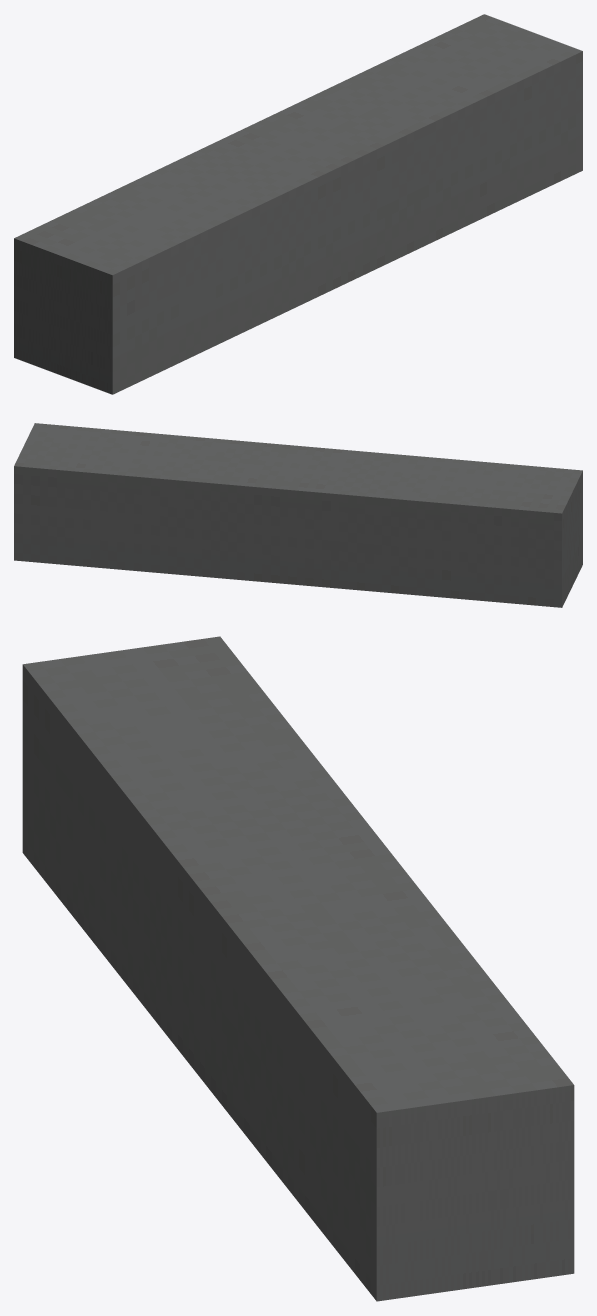
File: prop_chalk-1.glb
3 views of the same model, one above another, from view 1: azimuth 30°, elevation 25°; view 2: azimuth 150°, elevation 25°; view 3: azimuth 270°, elevation 25° (orthographic). The views are drawn at different scales.
Parts seen in each view (by area): view 1: prop_chalk-1; view 2: prop_chalk-1; view 3: prop_chalk-1.
Boxes of the visible parts, x1,y1,x2,y2 form: prop_chalk-1: [14, 14, 582, 394]; prop_chalk-1: [14, 423, 582, 607]; prop_chalk-1: [22, 636, 574, 1301].
Bounding box in the file's own units: 0.065 × 0.012 × 0.0318.
Materials: 1 (1 with a texture image).
